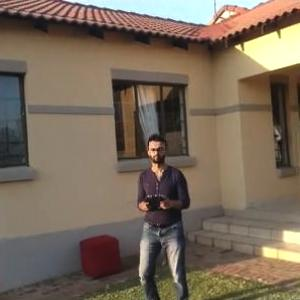follow: (119, 133, 187, 299)
